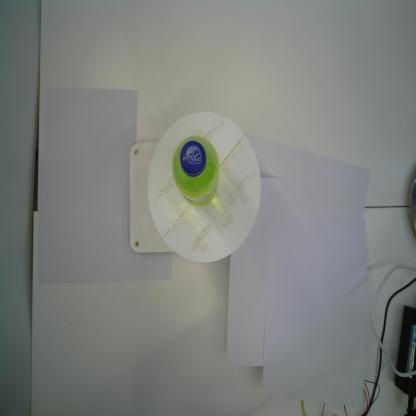Drink: (171, 135, 220, 206)
